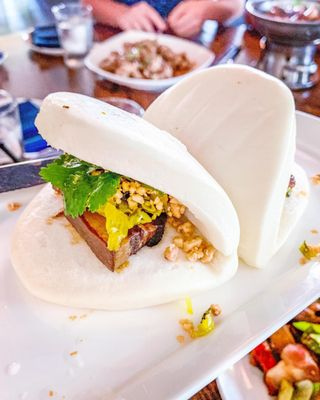pizza: (240, 0, 320, 91), (51, 2, 95, 69)
soup: (35, 92, 240, 278)
sushi: (81, 31, 214, 92)
